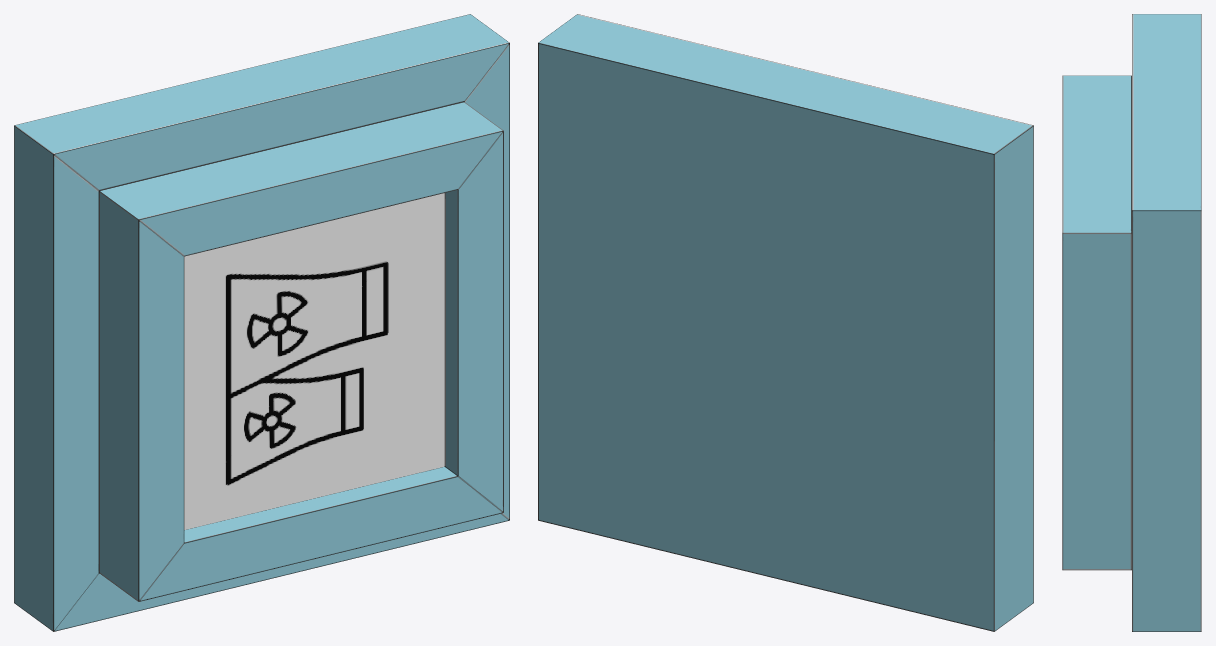
The model's file is NuclearLevel2_rot_2_3.fbx.
The picture shows the model from 3 angles, left to right: view 1: azimuth 30°, elevation 25°; view 2: azimuth 150°, elevation 25°; view 3: azimuth 270°, elevation 25°; orthographic projection. The views are drawn at different scales.
Parts seen in each view (by area): view 1: Plane; view 2: Plane; view 3: Plane.
Part boxes in pixels (box(x1,y1,x2,y2)): Plane: box(14, 14, 509, 631); Plane: box(538, 14, 1033, 631); Plane: box(1062, 14, 1201, 631).
Size of the model in its own units: 460 by 460 by 138.
Materials: 1 (1 with a texture image).
